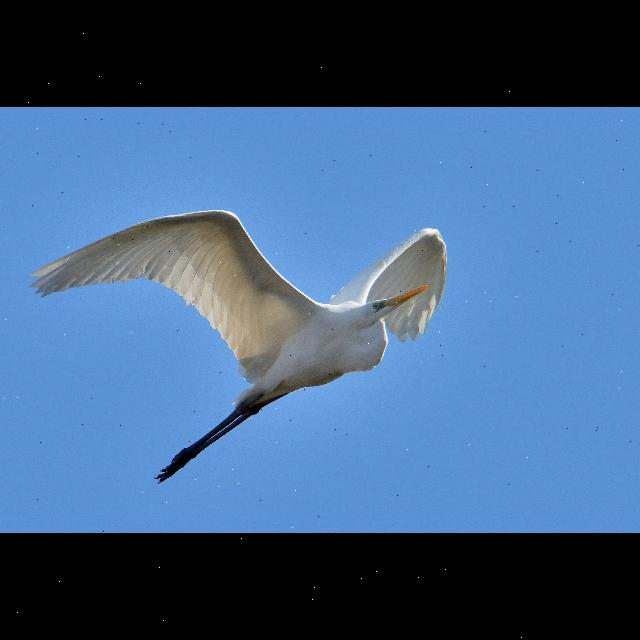egret: (27, 206, 453, 486)
